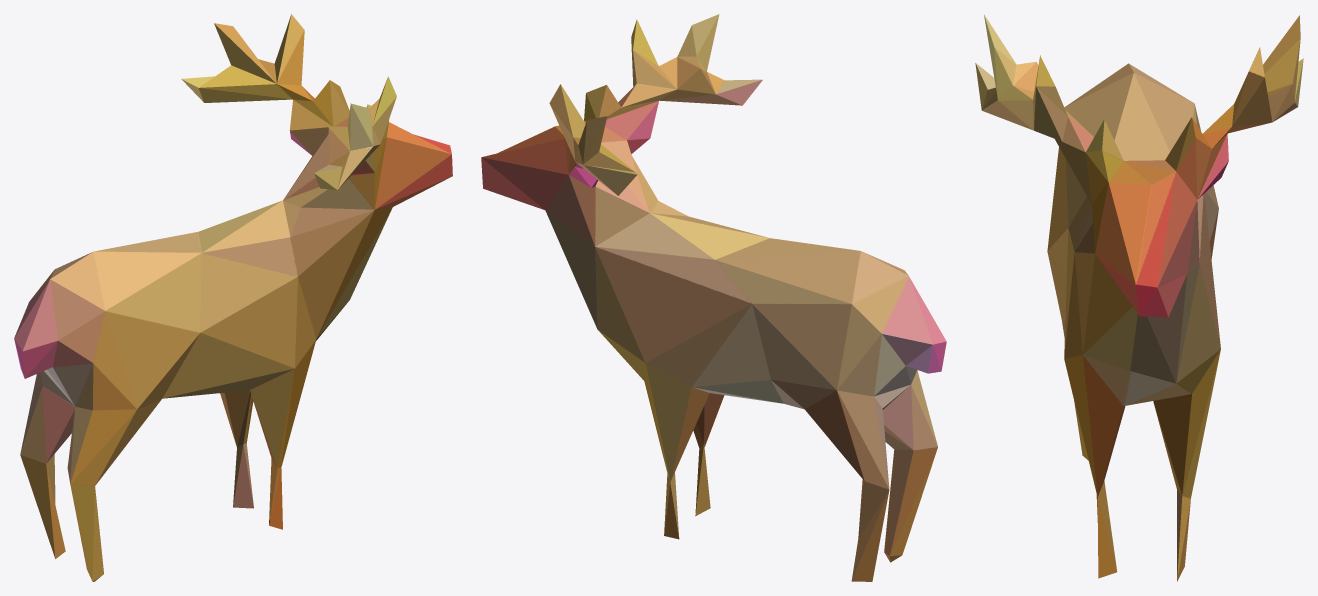
File: reindeer.fbx
3 views of the same model, side by side, from view 1: azimuth 30°, elevation 25°; view 2: azimuth 150°, elevation 25°; view 3: azimuth 270°, elevation 25° (orthographic). The views are drawn at different scales.
Visible parts, largest first — view 1: Mesh_0.003; view 2: Mesh_0.003; view 3: Mesh_0.003.
Boxes of the visible parts, x1,y1,x2,y2 form: Mesh_0.003: [14, 14, 452, 581]; Mesh_0.003: [481, 14, 946, 581]; Mesh_0.003: [975, 14, 1303, 581].
Size of the model in its own units: 186 by 184 by 93.6.
Materials: 1 (1 with a texture image).
